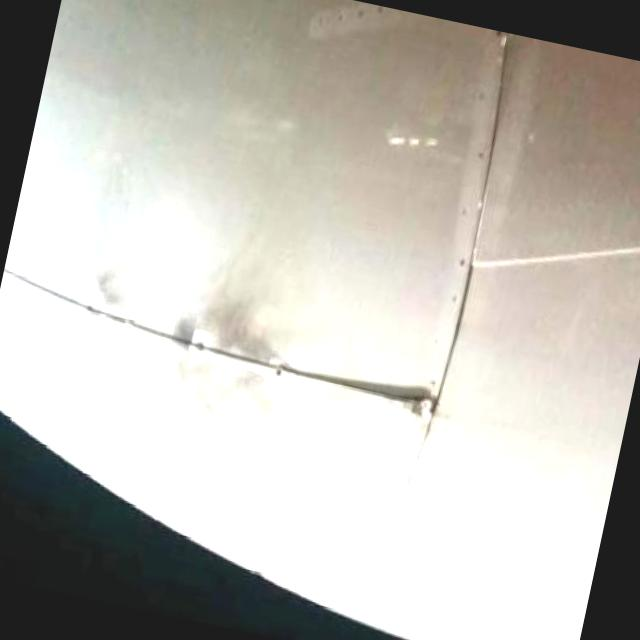crack: (280, 360, 431, 413)
